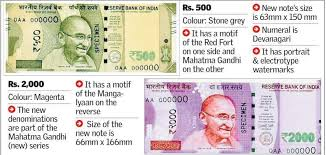fiveHundred: (9, 13, 165, 65)
